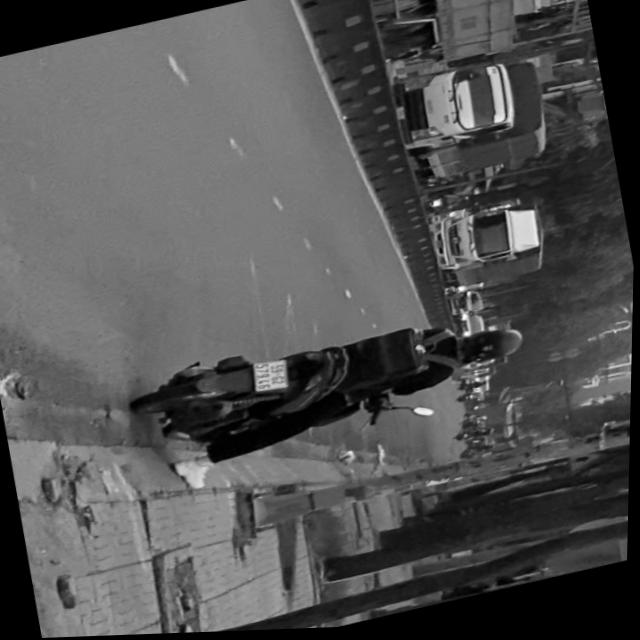helmet: (458, 322, 531, 372)
licenseplate: (129, 288, 543, 482)
nohelmet: (256, 358, 294, 394)
